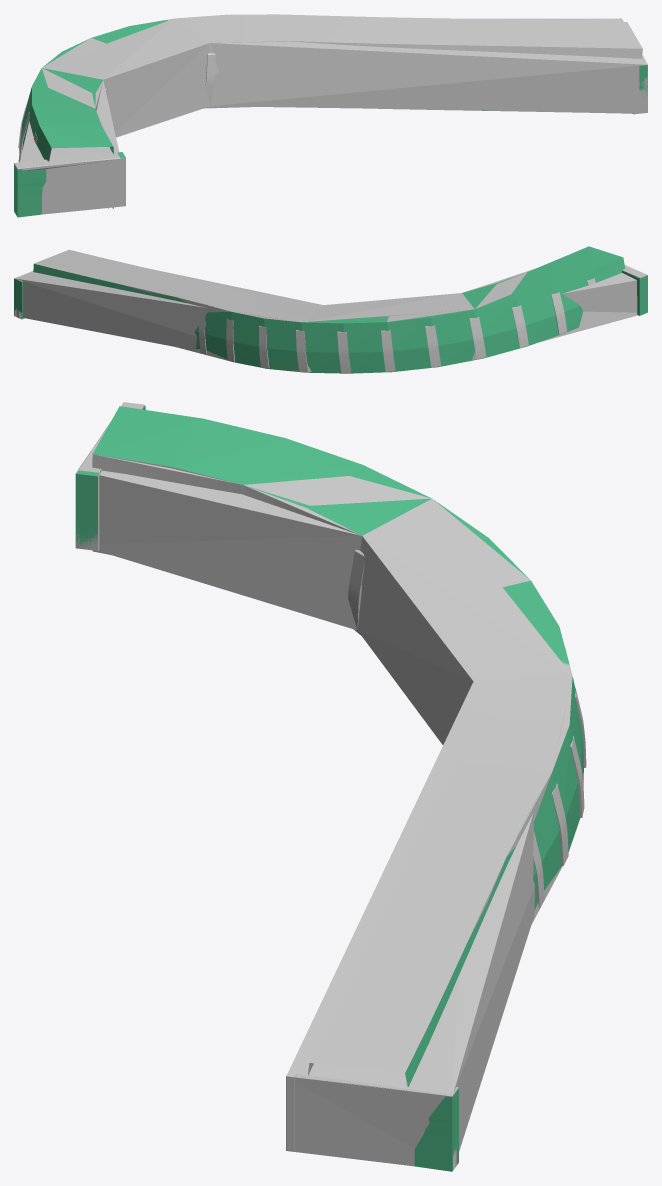
Rendered from jri_tunnel_mountain_2.dae.
The picture shows the model from 3 angles, top to bottom: view 1: azimuth 30°, elevation 25°; view 2: azimuth 150°, elevation 25°; view 3: azimuth 270°, elevation 25°; orthographic projection. The views are drawn at different scales.
Visible parts, largest first — view 1: ind_bld_a260, ind_bld_a2100, ind_bld_a600, Colmesh-1; view 2: Colmesh-1, ind_bld_a260, ind_bld_a2100, ind_bld_a600; view 3: ind_bld_a260, ind_bld_a600, Colmesh-1, ind_bld_a2100.
Boxes of the visible parts, left/top/right/bottom form: ind_bld_a260: left=20, top=18, right=647, bottom=214; ind_bld_a2100: left=14, top=14, right=647, bottom=208; ind_bld_a600: left=14, top=14, right=646, bottom=206; Colmesh-1: left=14, top=19, right=647, bottom=217; Colmesh-1: left=14, top=246, right=647, bottom=373; ind_bld_a260: left=16, top=269, right=637, bottom=372; ind_bld_a2100: left=14, top=249, right=647, bottom=372; ind_bld_a600: left=14, top=256, right=647, bottom=372; ind_bld_a260: left=98, top=470, right=572, bottom=1166; ind_bld_a600: left=75, top=405, right=585, bottom=1170; Colmesh-1: left=76, top=405, right=583, bottom=1171; ind_bld_a2100: left=75, top=402, right=586, bottom=1151.
Size of the model in its own units: 126 by 50.41 by 28.13.
